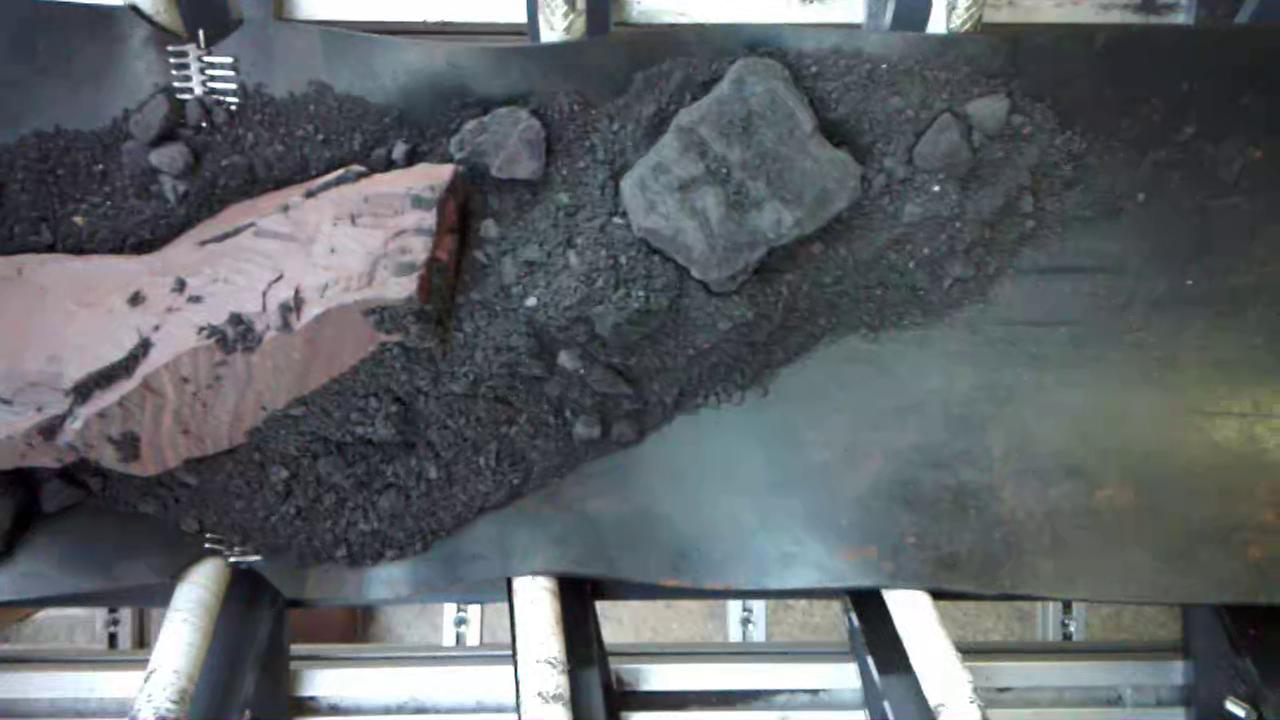conveyor: (3, 34, 1280, 590)
